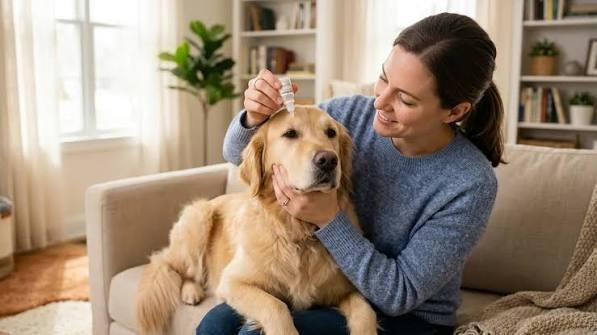adult_dog: (132, 103, 382, 335)
